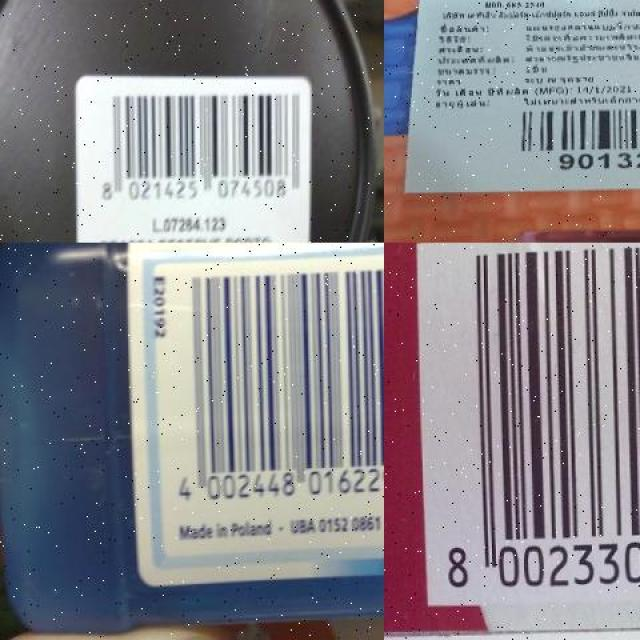Barcode: (414, 242, 640, 596), (167, 256, 384, 516), (72, 69, 308, 243), (502, 101, 640, 171)
